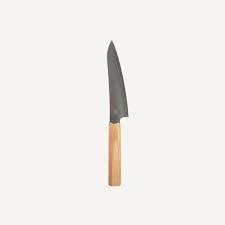Knife: (106, 39, 128, 186)
